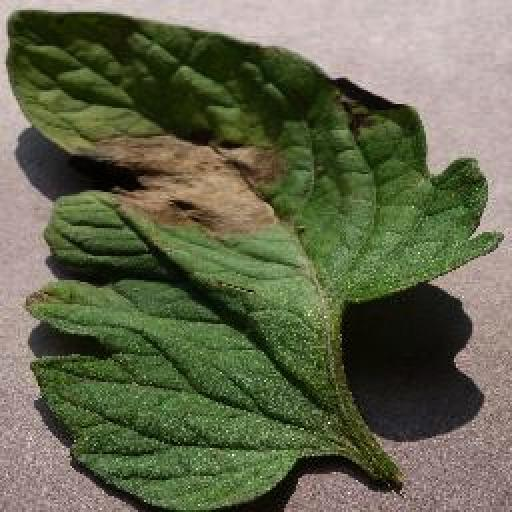disease_tomato: (6, 8, 504, 512)
